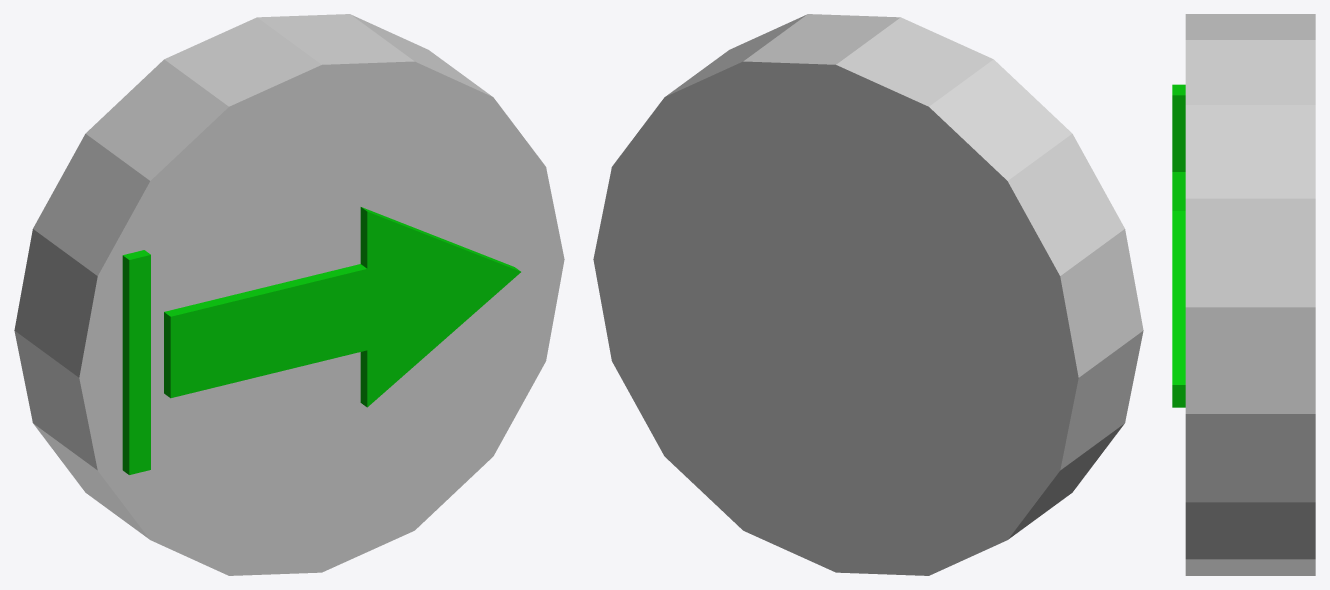
File: source.fbx
3 renders of one model, left to right at view 1: azimuth 30°, elevation 25°; view 2: azimuth 150°, elevation 25°; view 3: azimuth 270°, elevation 25°, orthographic.
Visible parts, largest first — view 1: Cube; view 2: Cube; view 3: Cube.
Part boxes in pixels (x1,y1,x2,y2): Cube: (14,14,564,575); Cube: (593,14,1143,575); Cube: (1172,14,1315,575).
Bounding box in the file's own units: 2 × 2 × 0.5108.
